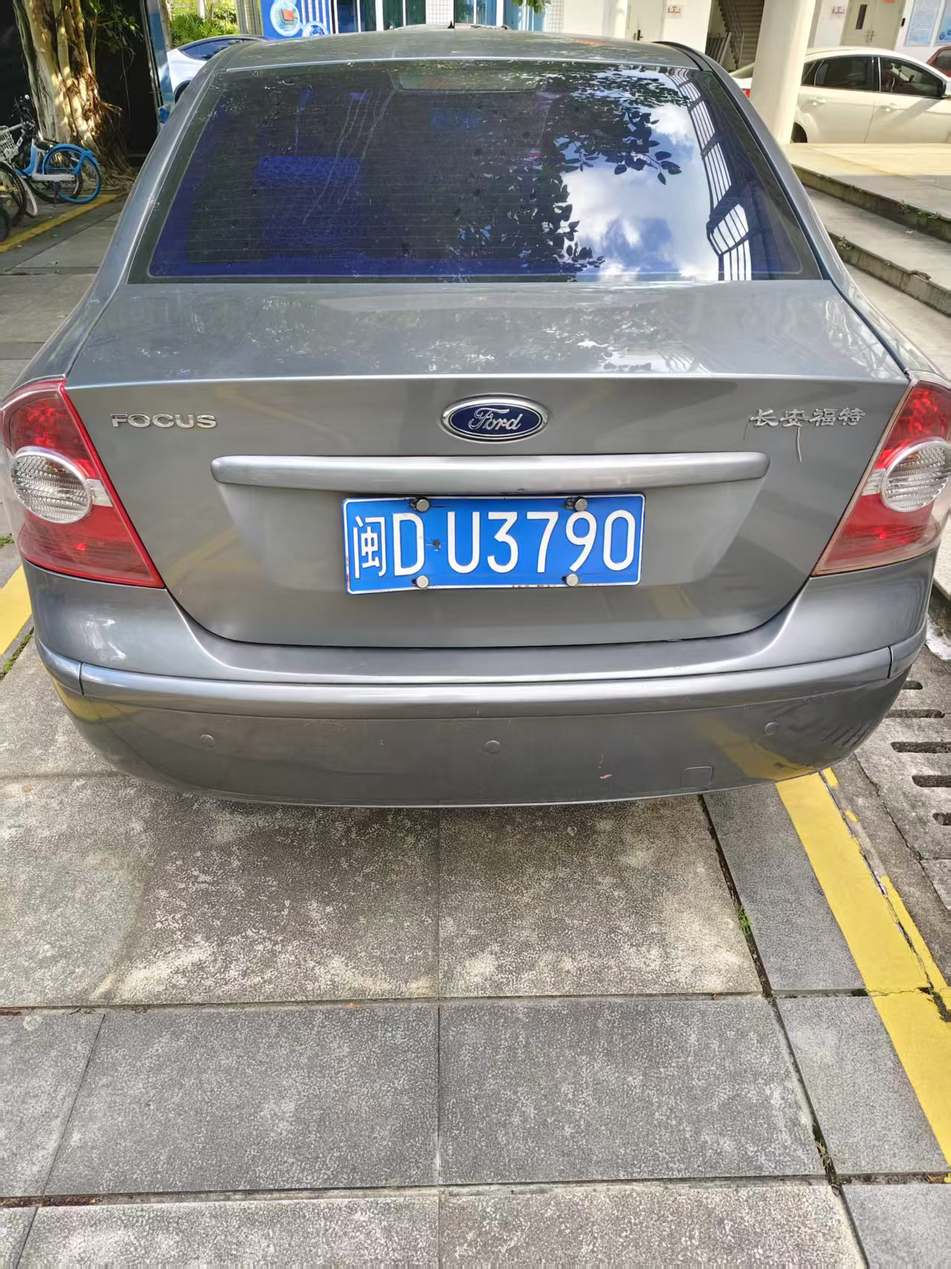plate: (342, 504, 645, 596)
